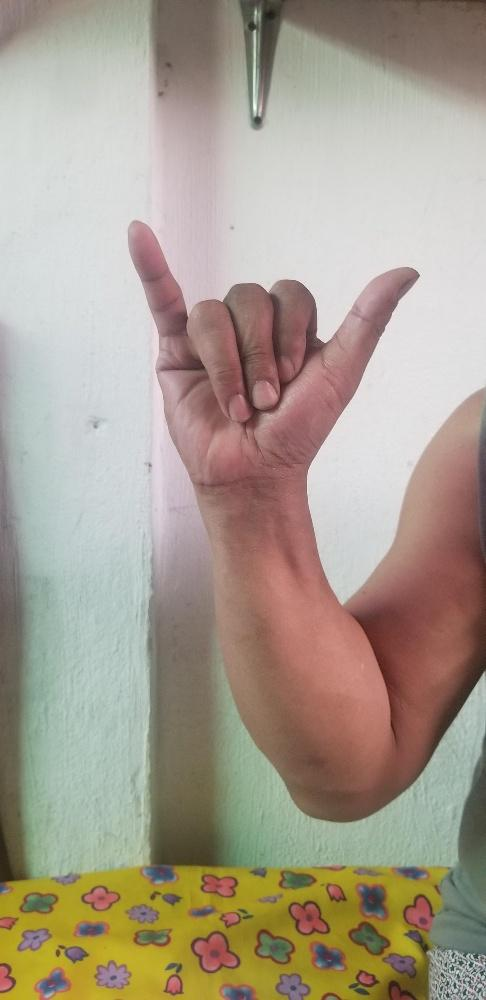y: (125, 217, 420, 479)
